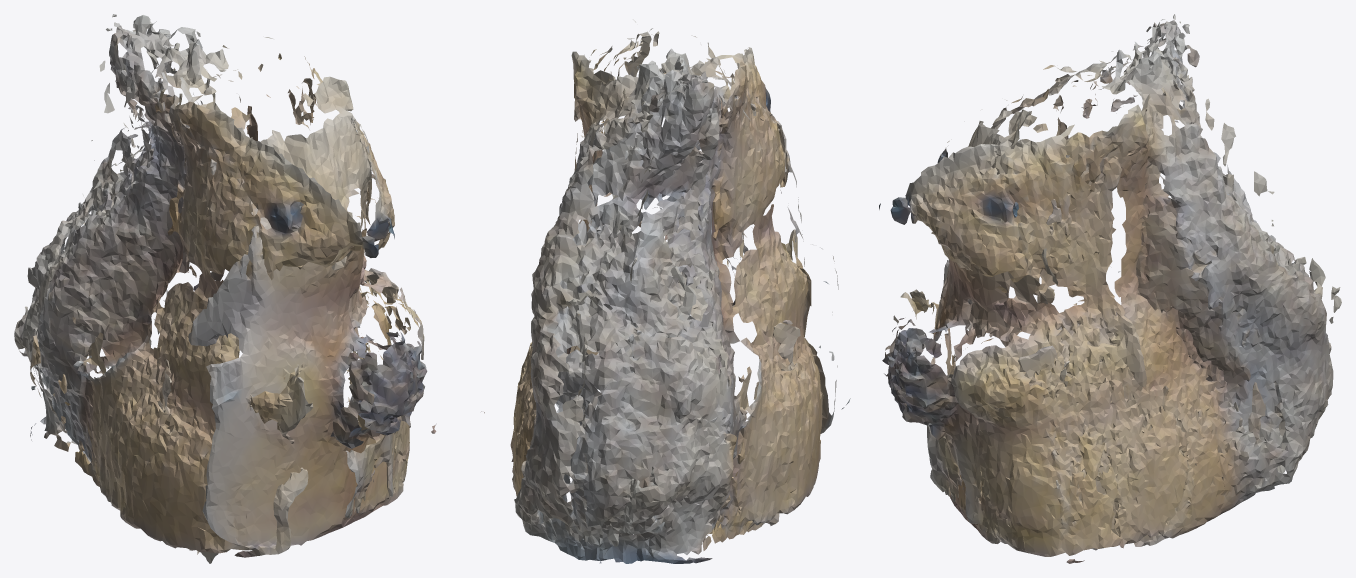
File: finished_model_20260520_134621.glb
The picture shows the model from 3 angles, left to right: view 1: azimuth 30°, elevation 25°; view 2: azimuth 150°, elevation 25°; view 3: azimuth 270°, elevation 25°; orthographic projection. The views are drawn at different scales.
Parts seen in each view (by area): view 1: finished_model_20260520_134621.ply; view 2: finished_model_20260520_134621.ply; view 3: finished_model_20260520_134621.ply.
Part boxes in pixels (bbox=[...]): finished_model_20260520_134621.ply: bbox=[14, 14, 436, 563]; finished_model_20260520_134621.ply: bbox=[481, 19, 850, 563]; finished_model_20260520_134621.ply: bbox=[879, 14, 1341, 563].
Size of the model in its own units: 0.0847 by 0.0988 by 0.0898.
